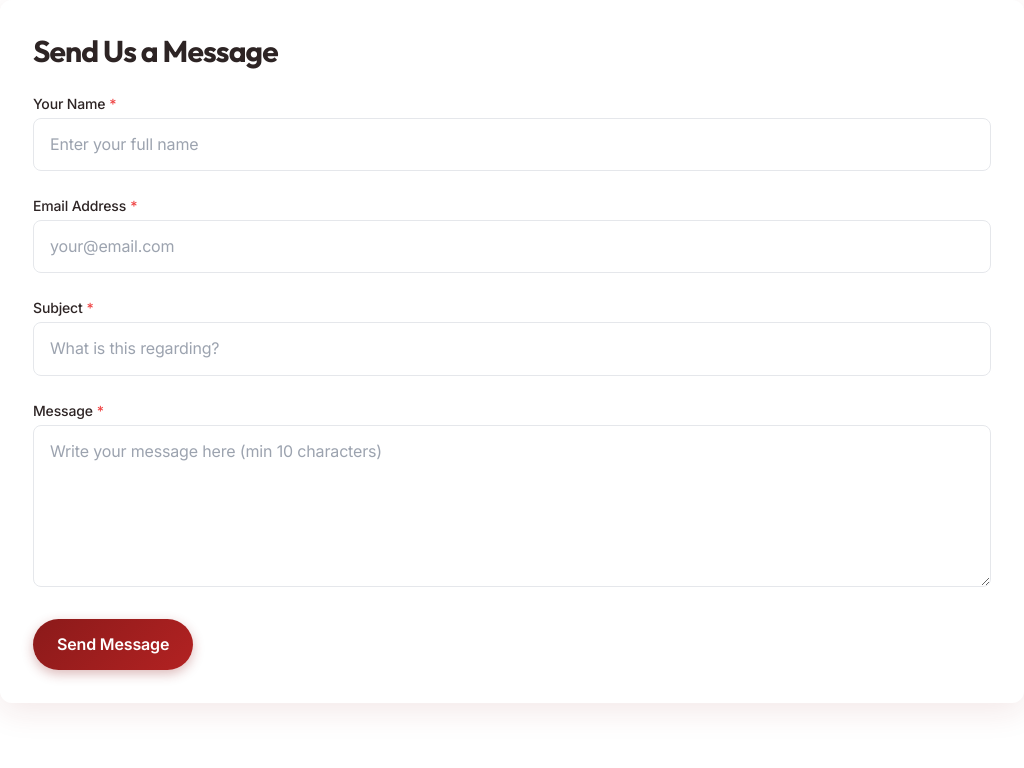
ContactForm › Form submission validation › shows all validation errors on submit with empty form
Click the button "Send Message". click: (113, 644)
box: [33, 618, 193, 670]
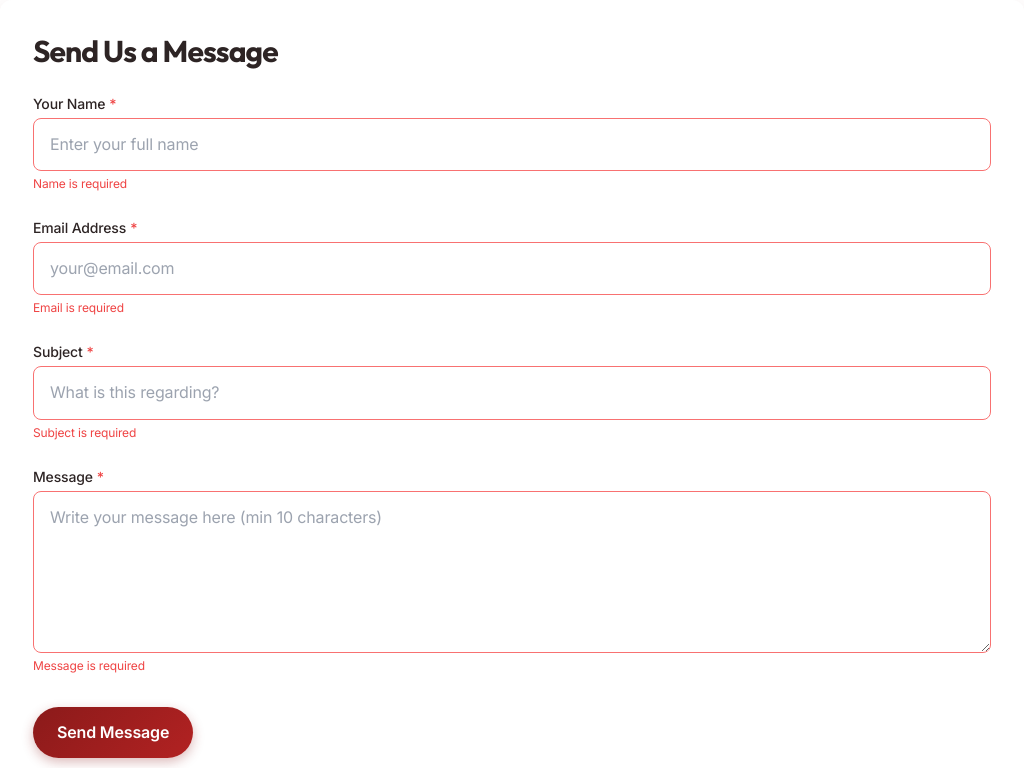
Check: the text "Name is required" is shown, box [33, 176, 127, 191]
Check: the text "Email is required" is shown, box [33, 300, 124, 315]
Check: the text "Subject is required" is shown, box [33, 425, 136, 440]
